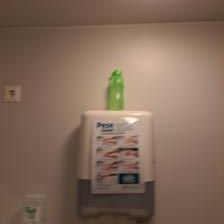bottle: (101, 67, 126, 114)
